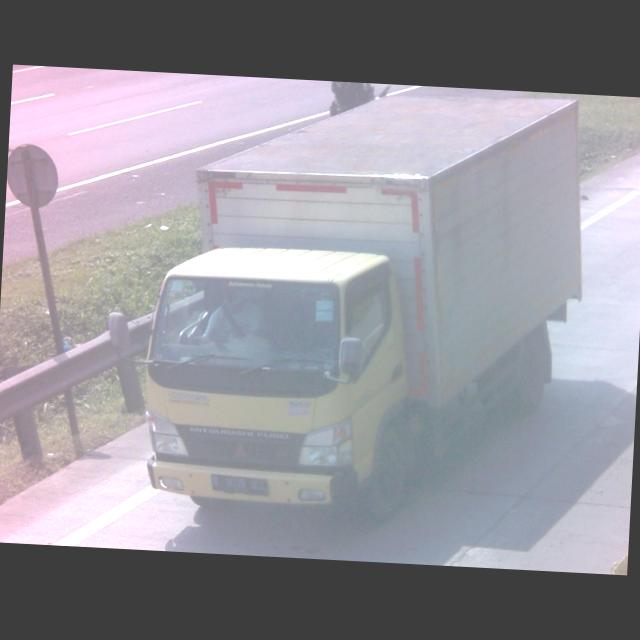plate: (208, 474, 270, 498)
